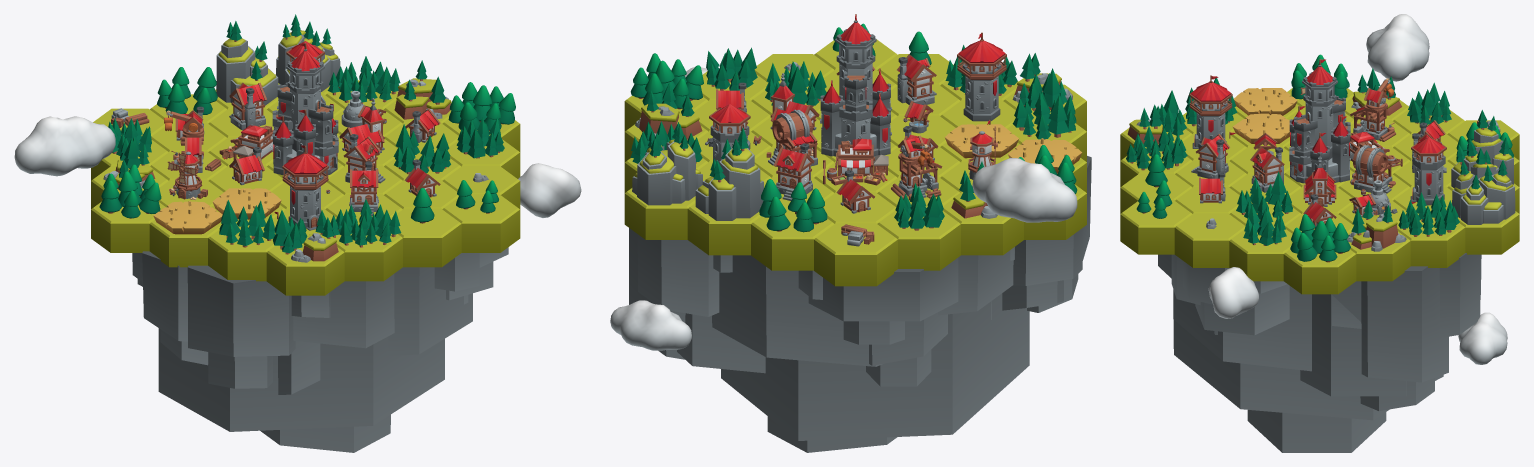
File: isla.gltf
The picture shows the model from 3 angles, left to right: view 1: azimuth 30°, elevation 25°; view 2: azimuth 150°, elevation 25°; view 3: azimuth 270°, elevation 25°; orthographic projection. The views are drawn at different scales.
Parts seen in each view (by area): view 1: hex_grass (×25), mountain_A (×2), mountain_C, building_castle_red, cloud_big, trees_B_large (×2), trees_A_large (×2), building_home_B_red (×3), trees_A_medium (×2), building_grain (×2), mountain_B_grass_trees, cloud_small (+17 smaller); view 2: mountain_A, hex_grass (×27), mountain_B (×2), cloud_big (×2), building_castle_red, mountain_C, mountain_B_grass_trees, mountain_C_grass_trees, trees_A_medium (×2), trees_B_large (×2), building_home_B_red (×2), trees_A_small (×2) (+19 smaller); view 3: hex_grass (×24), mountain_A (×2), mountain_B, building_castle_red, cloud_big (×2), mountain_C_grass_trees, trees_A_large (×2), trees_B_large (×2), building_grain (×2), trees_A_small (×2), building_home_B_red (×2), mountain_B_grass_trees (+19 smaller).
Part boxes in pixels (x1,y1,x2,y2): hex_grass (×25): (91, 94, 520, 295); mountain_A (×2): (132, 247, 508, 452); mountain_C: (142, 251, 330, 394); building_castle_red: (272, 43, 338, 175); cloud_big: (14, 116, 115, 176); trees_B_large (×2): (99, 82, 515, 218); trees_A_large (×2): (327, 56, 401, 247); building_home_B_red (×3): (229, 82, 385, 215); trees_A_medium (×2): (219, 124, 450, 247); building_grain (×2): (153, 188, 281, 234); mountain_B_grass_trees: (216, 21, 278, 105); cloud_small: (518, 163, 581, 217); mountain_A: (677, 250, 1029, 452); hex_grass (×27): (624, 39, 1086, 286); mountain_B (×2): (629, 228, 958, 386); cloud_big (×2): (610, 158, 1077, 350); building_castle_red: (820, 14, 891, 156); mountain_C: (991, 156, 1091, 319); mountain_B_grass_trees: (695, 127, 763, 220); mountain_C_grass_trees: (632, 122, 702, 205); trees_A_medium (×2): (765, 61, 1076, 139); trees_B_large (×2): (630, 53, 1077, 193); building_home_B_red (×2): (773, 54, 936, 200); trees_A_small (×2): (706, 47, 944, 230); hex_grass (×24): (1120, 109, 1519, 294); mountain_A (×2): (1158, 254, 1481, 452); mountain_B: (1332, 253, 1480, 410); building_castle_red: (1289, 59, 1350, 183); cloud_big (×2): (1366, 14, 1507, 364); mountain_C_grass_trees: (1452, 148, 1515, 224); trees_A_large (×2): (1126, 126, 1459, 236); trees_B_large (×2): (1290, 54, 1350, 262); building_grain (×2): (1233, 88, 1297, 143); trees_A_small (×2): (1243, 82, 1451, 245); building_home_B_red (×2): (1191, 134, 1284, 192); mountain_B_grass_trees: (1451, 110, 1513, 188).
Size of the model in its own units: 16.08 by 12.77 by 12.7.
Materials: 1 (1 with a texture image).
